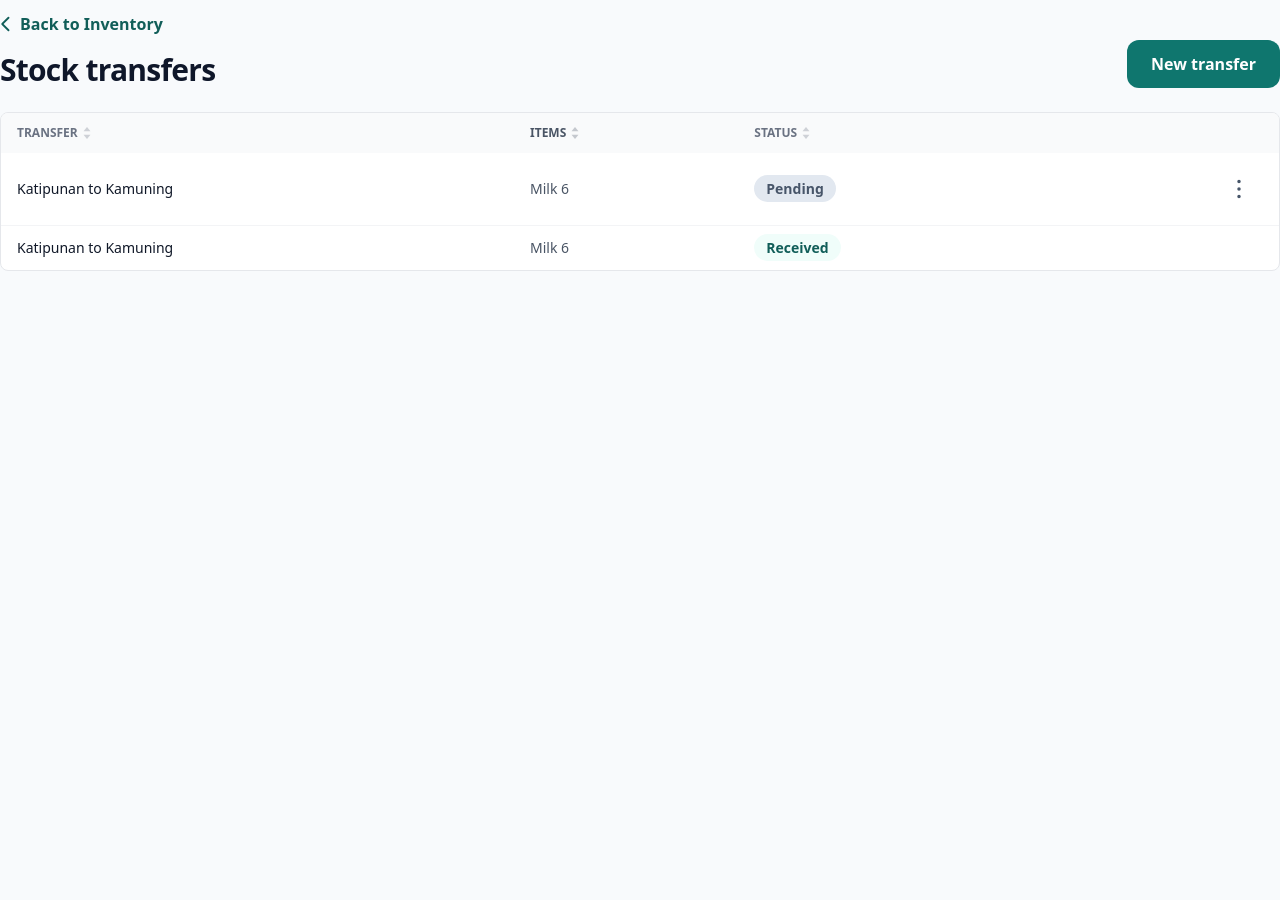
TransfersPage › treats cancelling as destructive and offers no actions once finished
This screenshot has width=1280, height=900.
What coordinates should you click on to do the following:
click the button named "Actions for "
I would click on:
 (1239, 189)
Its box is [1215,165,1263,213].
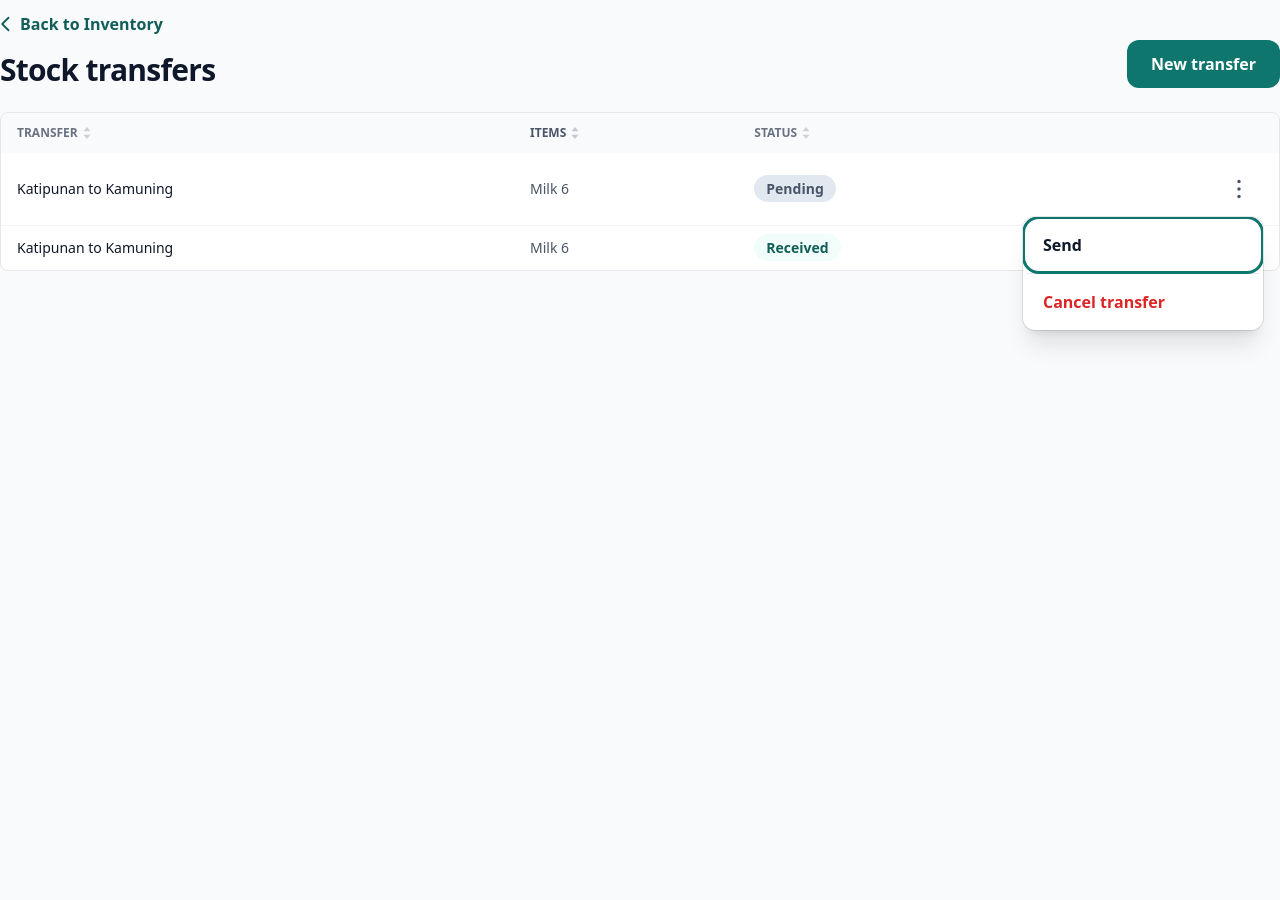
What coordinates should you click on to do the following:
click the menu item "Cancel transfer"
I would click on:
 (1143, 302)
Its box is [1027,278,1259,326].
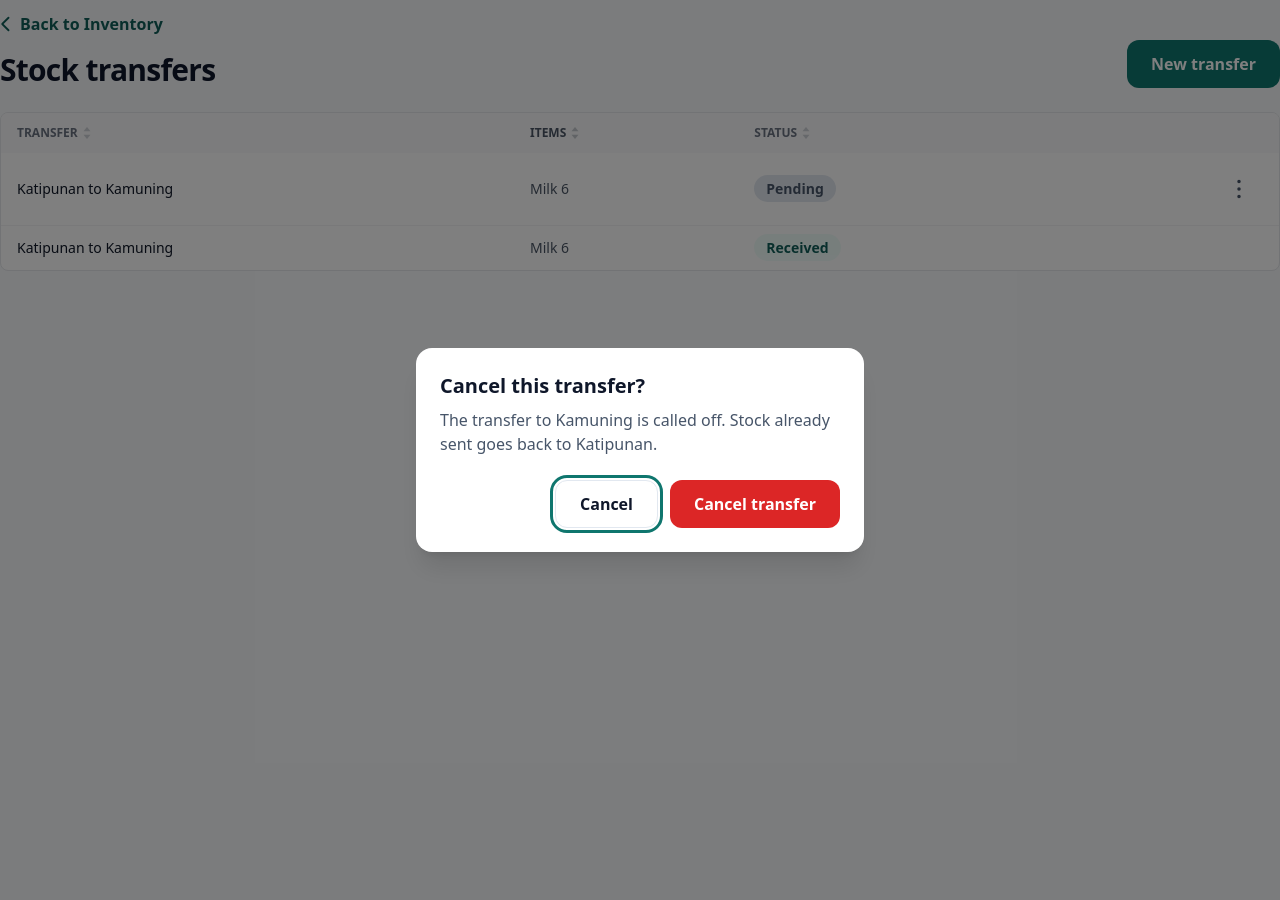
Expected: the dialog "Cancel this transfer?" is shown, [416,348,864,552]
